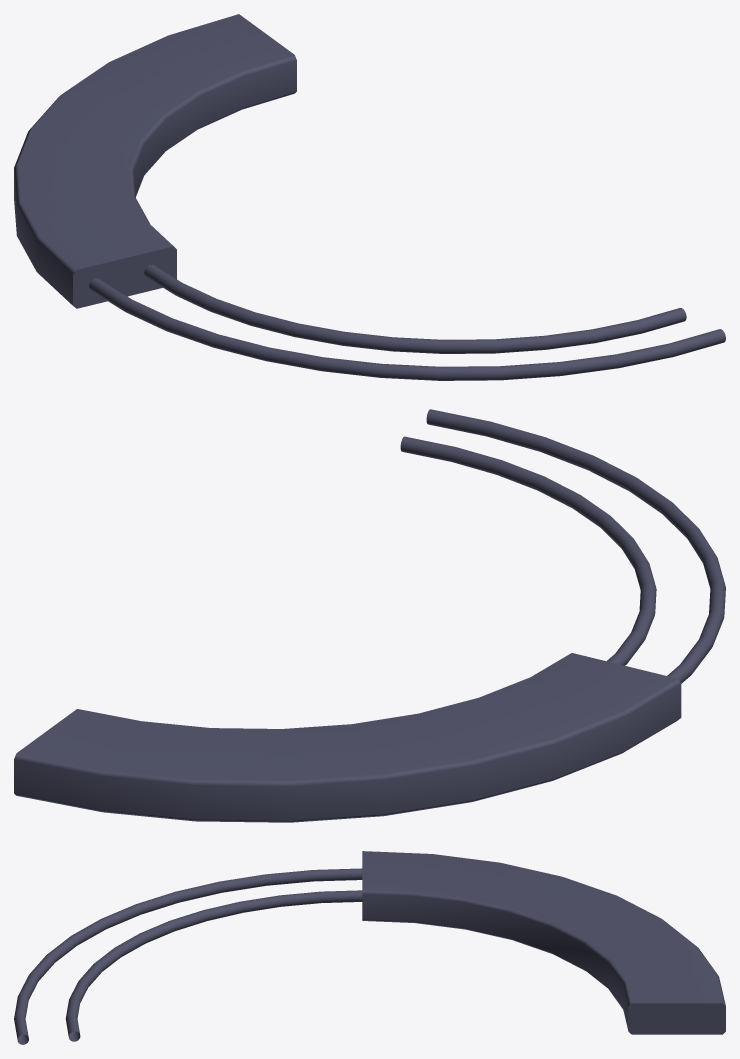
Rendered from Arena_Top_01.fbx.
3 renders of one model, top to bottom at view 1: azimuth 30°, elevation 25°; view 2: azimuth 150°, elevation 25°; view 3: azimuth 270°, elevation 25°, orthographic. The views are drawn at different scales.
Visible parts, largest first — view 1: Arena_Top; view 2: Arena_Top; view 3: Arena_Top.
Boxes of the visible parts, <box> form: Arena_Top: <box>14,14,725,380</box>; Arena_Top: <box>14,409,725,822</box>; Arena_Top: <box>14,851,725,1044</box>.
Size of the model in its own units: 356 by 30 by 613.
